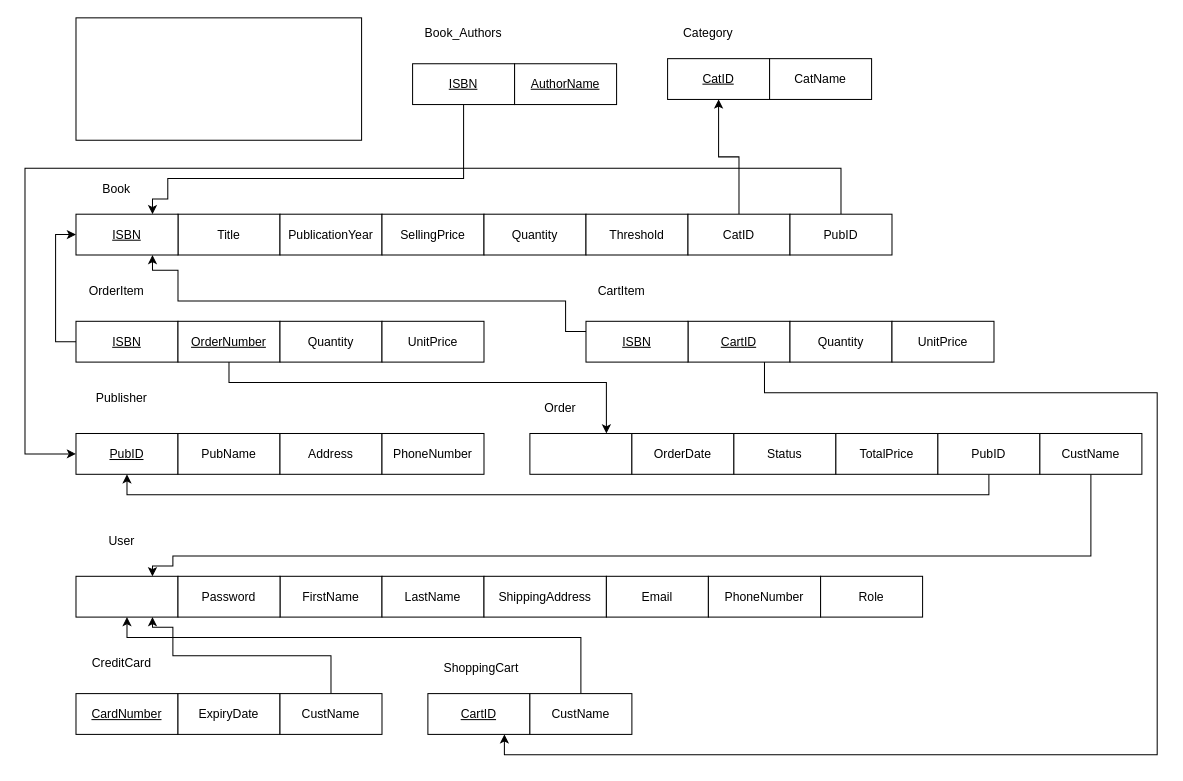
This 1183x781 diagram has some shape labels left out. Here are the shapes that lost their labels. From the top down, the centre of each, then its label:
(218,78): Relational Schema
(580,453): OrderID
(126,596): Username
